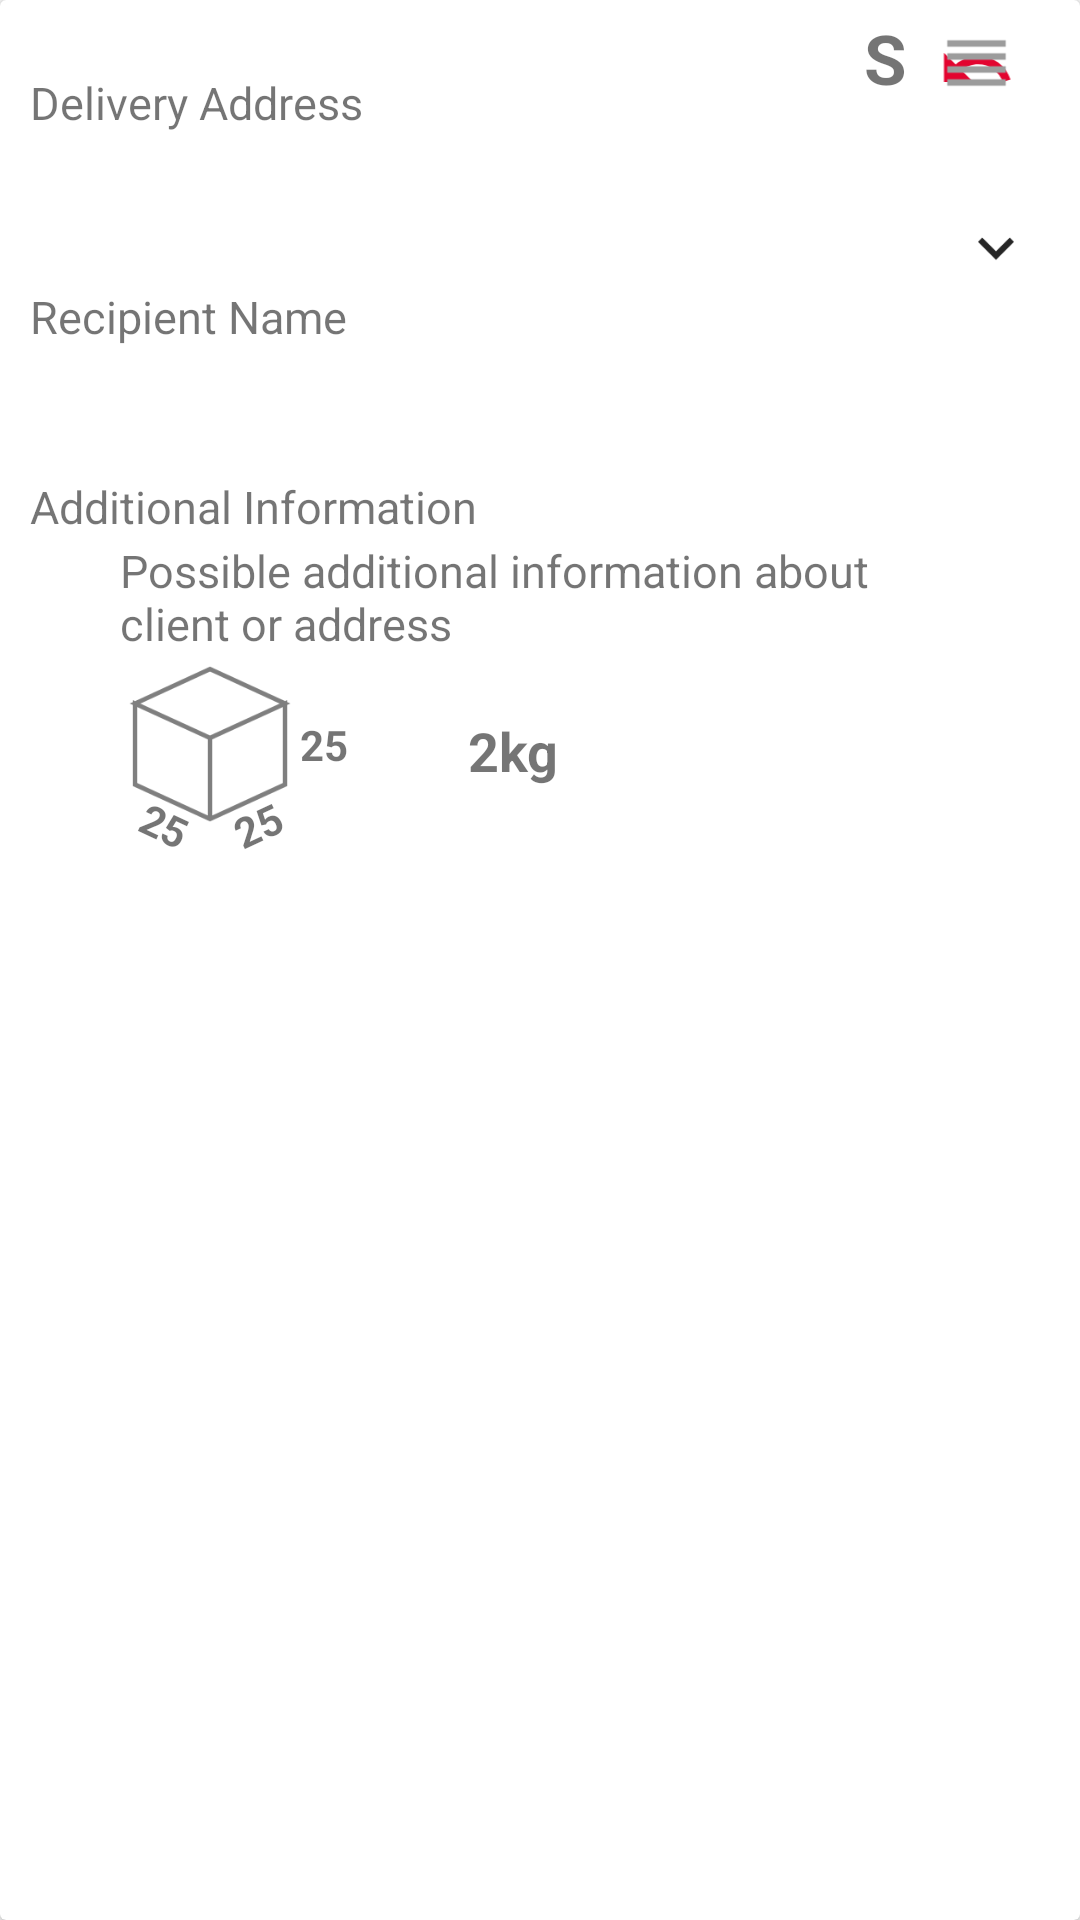

Where icons sit on this 1080w x 1920h app screen, as (x1, y1, x2, y2):
dpd box slim: (130, 667, 290, 834)
